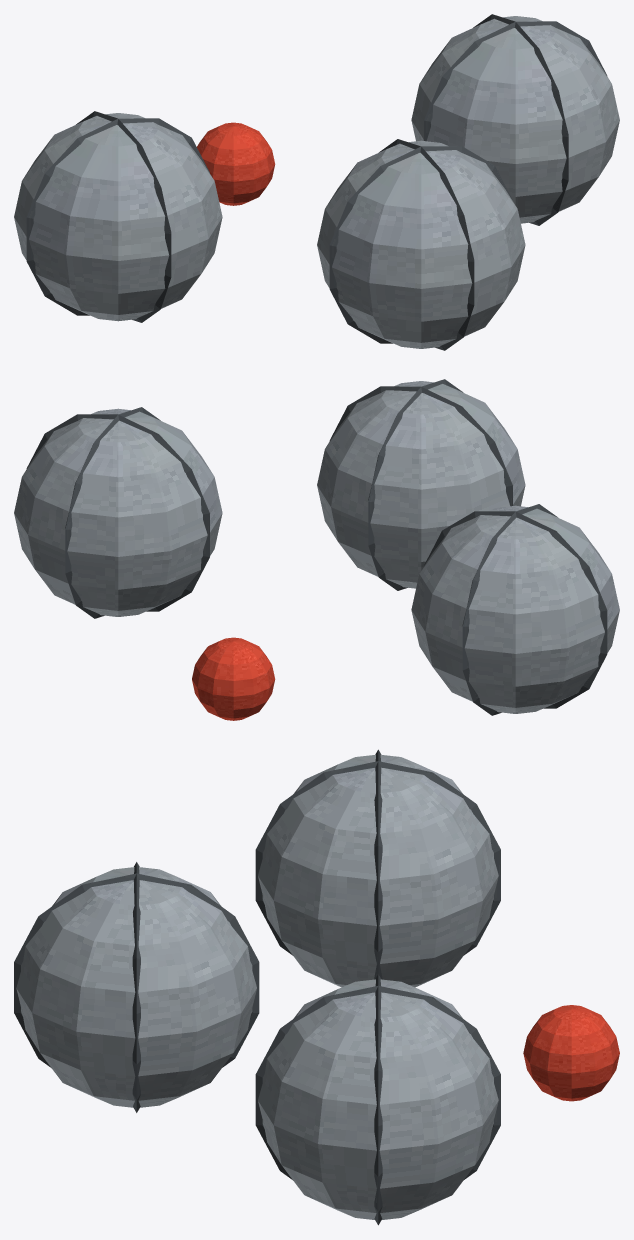
3 views of the same model, one above another, from view 1: azimuth 30°, elevation 25°; view 2: azimuth 150°, elevation 25°; view 3: azimuth 270°, elevation 25° (orthographic). The views are drawn at different scales.
Parts seen in each view (by area): view 1: Decor_petanque_boules; view 2: Decor_petanque_boules; view 3: Decor_petanque_boules.
Boxes of the visible parts, box(x1,y1,x2,y2) form: Decor_petanque_boules: box(14, 14, 619, 350); Decor_petanque_boules: box(14, 379, 619, 720); Decor_petanque_boules: box(14, 749, 619, 1225).
Bounding box in the file's own units: 0.2412 × 0.0781 × 0.1881.
Materials: 3 (3 with a texture image).
